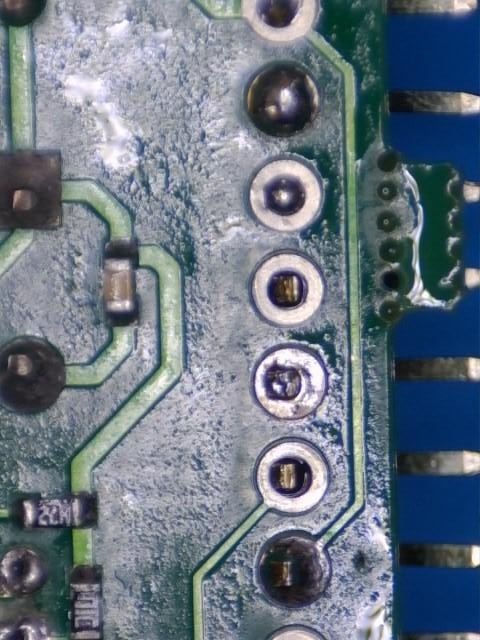pcb_defect: (247, 64, 319, 136), (255, 348, 324, 420), (251, 160, 320, 231)
